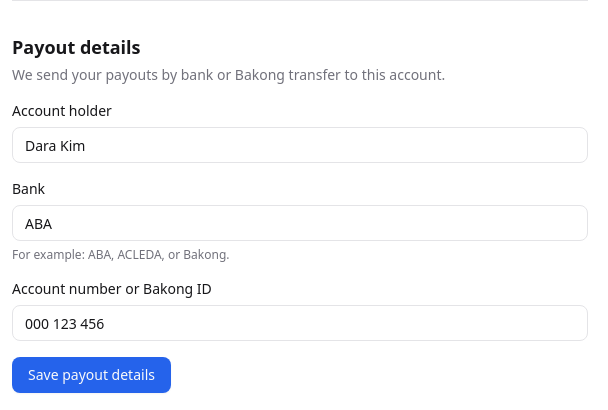
Scenario: PayoutAccountForm › shows the saved details and sends what the owner changes
This screenshot has width=608, height=410.
expect the field labelled "Account holder" holds "Dara Kim": met, box x1=12 y1=127 x2=588 y2=163
Replace the text in the field labelled "Bank" with "Bakong" at (300, 223), box x1=12 y1=205 x2=588 y2=241
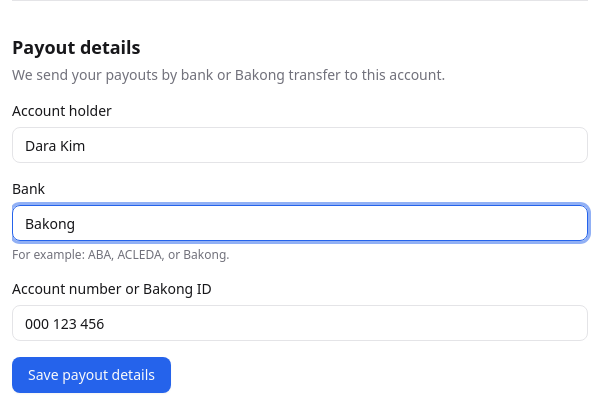
Click the button "Save payout details" at (92, 375), box x1=12 y1=357 x2=171 y2=393
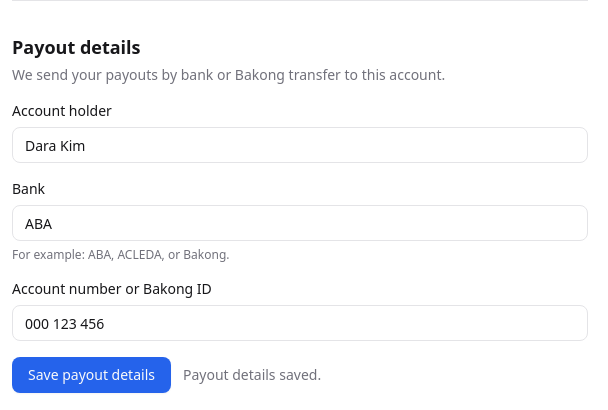
expect the message reads "Payout details saved.": met, box x1=183 y1=365 x2=321 y2=384
